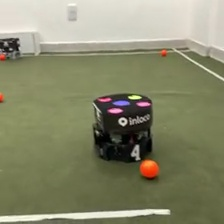ball: (138, 158, 161, 180), (160, 47, 168, 56), (1, 52, 6, 60)
goal: (1, 31, 42, 57)
robot: (90, 91, 156, 164), (1, 35, 23, 60)
